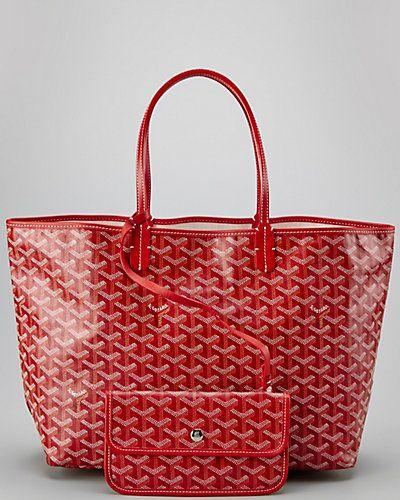GOYARD: (6, 225, 394, 469), (111, 391, 284, 492)
